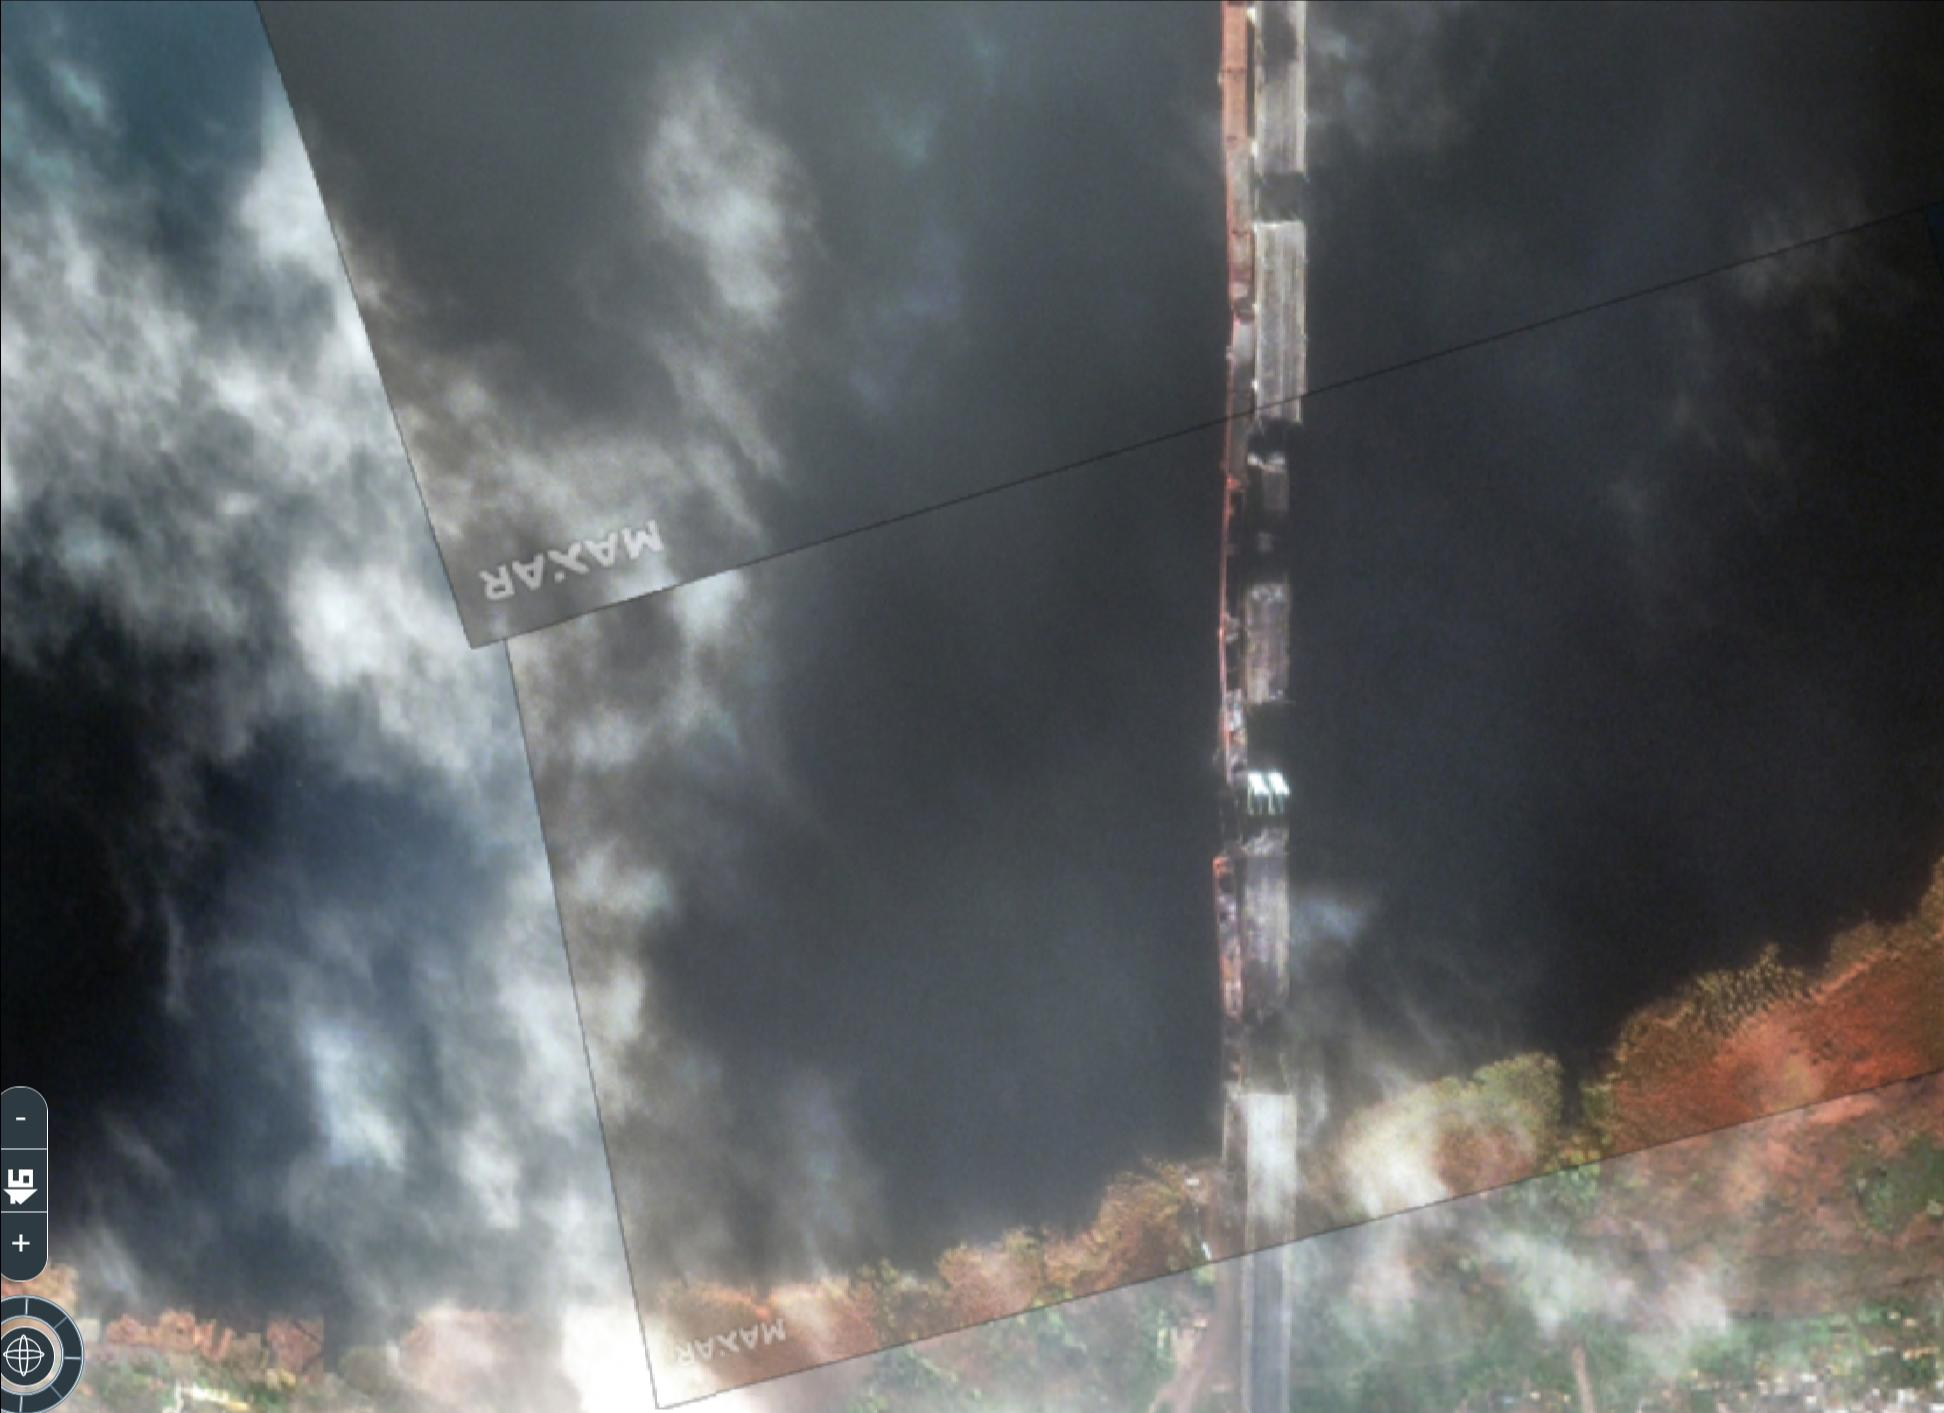demaged-bridge-high: (1191, 45, 1325, 1188)
